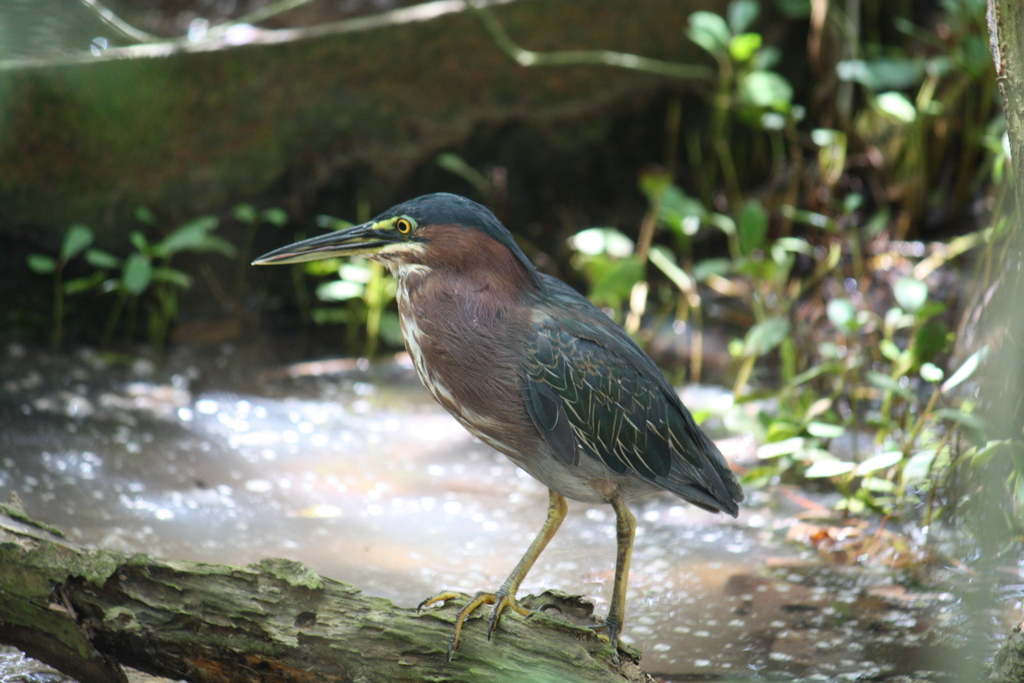Bird: (251, 190, 745, 663)
